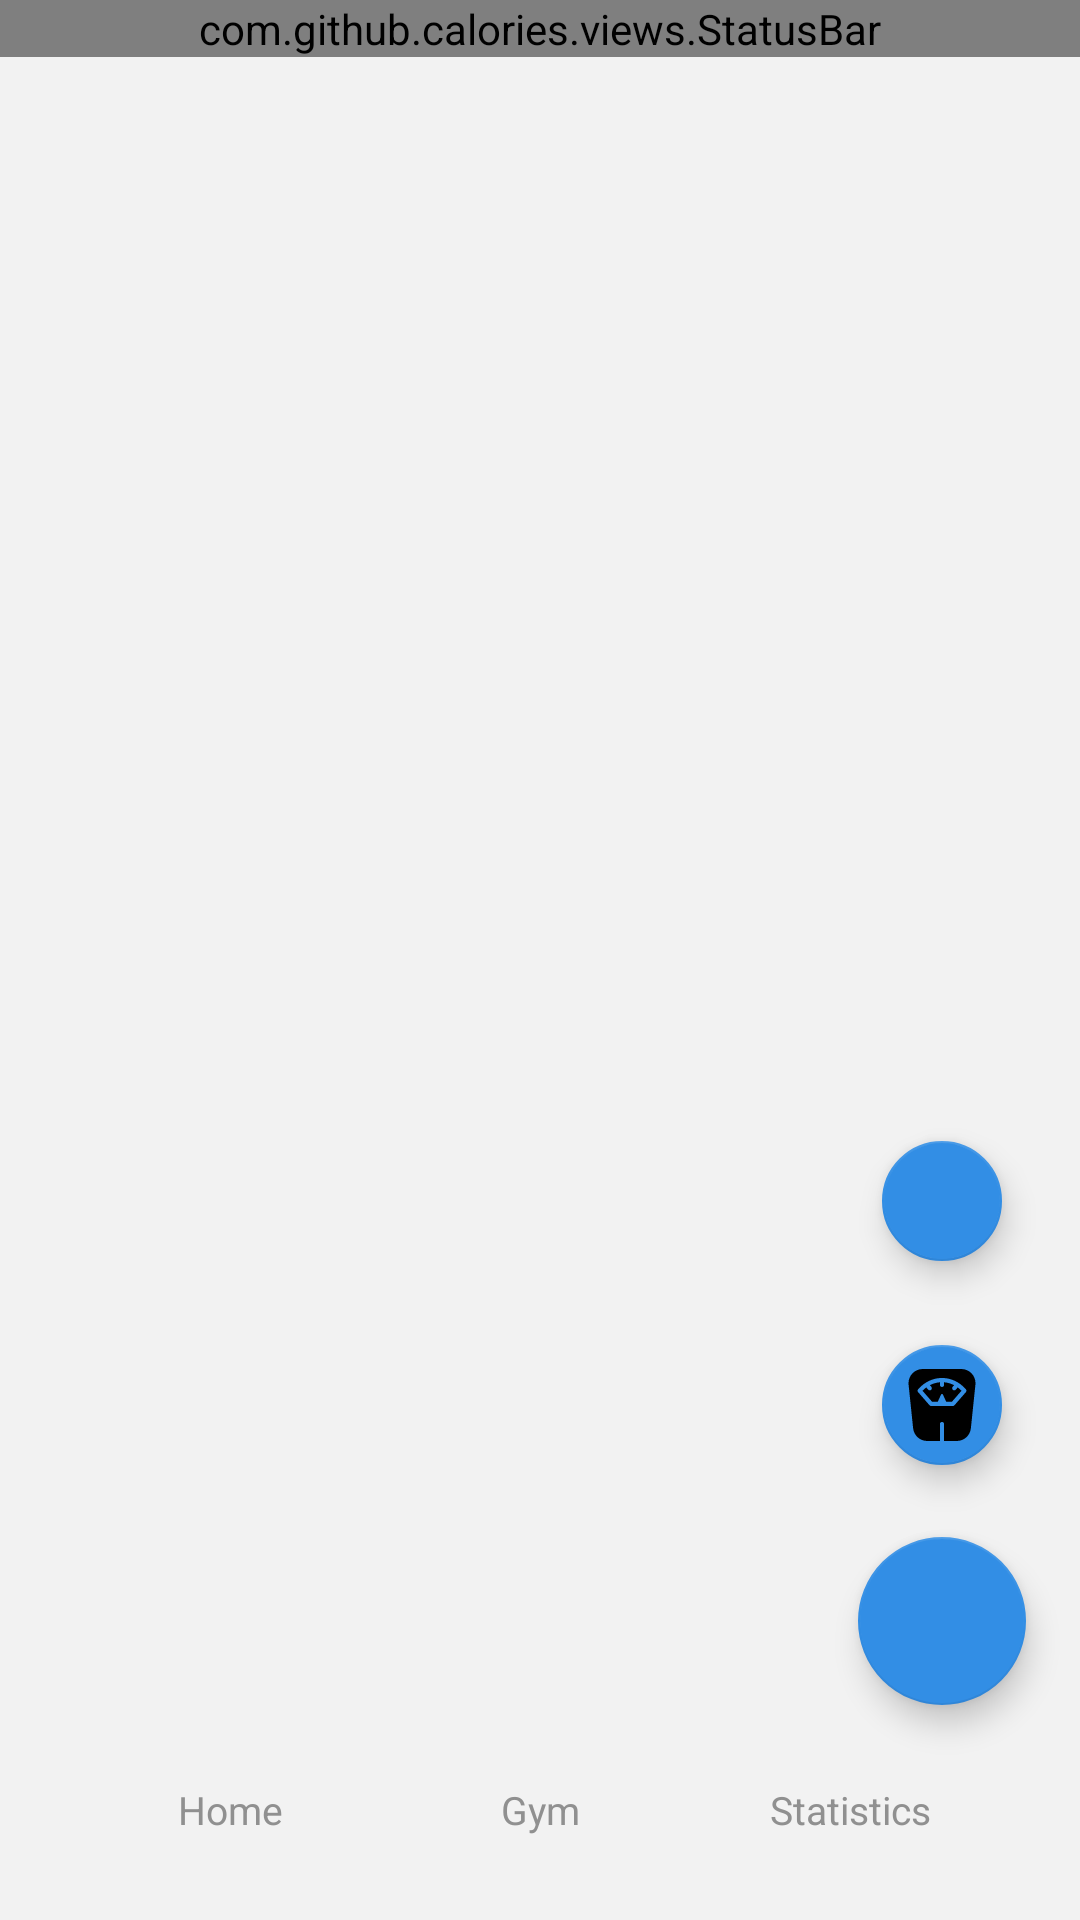

Locate icon controls on the screen. Image size 1080px×1920px, boxes as {"left": x1, "top": y1, "right": x2, "bottom": y2}.
weighing scale: {"left": 882, "top": 1345, "right": 1004, "bottom": 1476}
